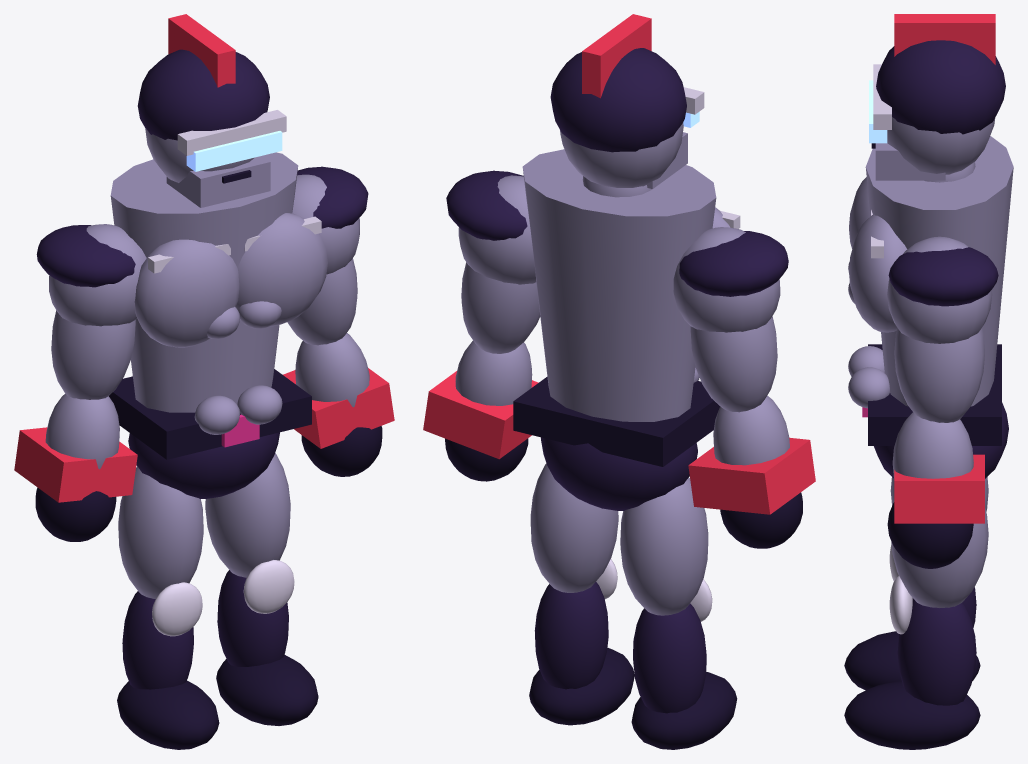
File: developing.glb
3 views of the same model, side by side, from view 1: azimuth 30°, elevation 25°; view 2: azimuth 150°, elevation 25°; view 3: azimuth 270°, elevation 25° (orthographic). The views are drawn at different scales.
Visible parts, largest first — view 1: Torso, Pectoral_L, Helmet, Thigh_L, Pectoral_R, Thigh_R, Belt, Pelvis, Bicep_L, Cosmetic_Bracer_L, Boot_R, Boot_L (+24 smaller); view 2: Torso, Helmet, Thigh_L, Belt, Thigh_R, Pelvis, Shin_L, Shin_R, Cosmetic_Bracer_L, Bicep_L, ShoulderPlate_L, Bicep_R (+12 smaller); view 3: Torso, Helmet, Shin_R, Bicep_R, Boot_R, ShoulderPlate_R, Cosmetic_Bracer_R, Deltoid_R, Forearm_R, Pectoral_R, Thigh_R, Belt (+14 smaller).
Part boxes in pixels (x1,y1,x2,y2): Torso: (110,152,298,412); Pectoral_L: (134,239,239,347); Helmet: (137,49,269,140); Thigh_L: (118,466,203,598); Pectoral_R: (236,213,327,326); Thigh_R: (205,453,290,577); Belt: (109,369,311,459); Pelvis: (128,432,279,498); Bicep_L: (51,310,135,399); Cosmetic_Bracer_L: (14,427,137,502); Boot_R: (216,654,318,725); Boot_L: (117,680,219,749); Torso: (522,149,716,421); Helmet: (550,48,686,152); Thigh_L: (620,477,708,615); Belt: (513,377,720,466); Thigh_R: (530,463,618,592); Pelvis: (541,437,697,510); Shin_L: (633,603,706,713); Shin_R: (534,582,608,689); Cosmetic_Bracer_L: (688,437,815,514); Bicep_L: (690,316,777,412); ShoulderPlate_L: (679,231,788,296); Bicep_R: (461,262,540,353); Torso: (865,136,1013,406); Helmet: (876,40,1005,134); Shin_R: (897,599,976,705); Bicep_R: (894,328,984,422); Boot_R: (844,681,980,749); ShoulderPlate_R: (888,247,998,306); Cosmetic_Bracer_R: (894,454,984,523); Deltoid_R: (887,236,992,343); Forearm_R: (892,412,973,478); Pectoral_R: (849,214,907,332); Thigh_R: (891,508,988,607); Belt: (868,344,1001,445).
Bounding box in the file's own units: 1.54 × 2.98 × 0.6518.
